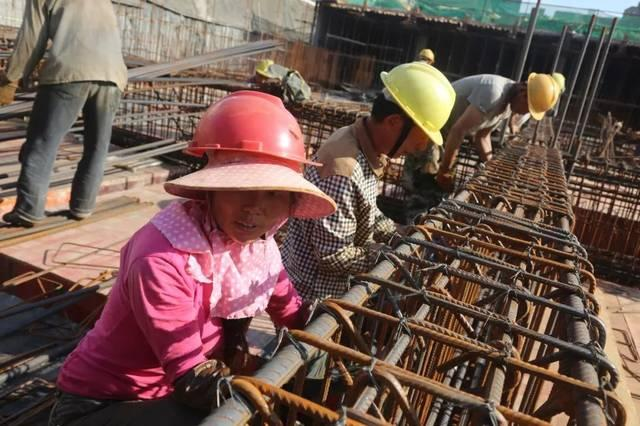helmet: (187, 92, 315, 167), (384, 62, 459, 139), (528, 73, 566, 112), (419, 49, 437, 70)
